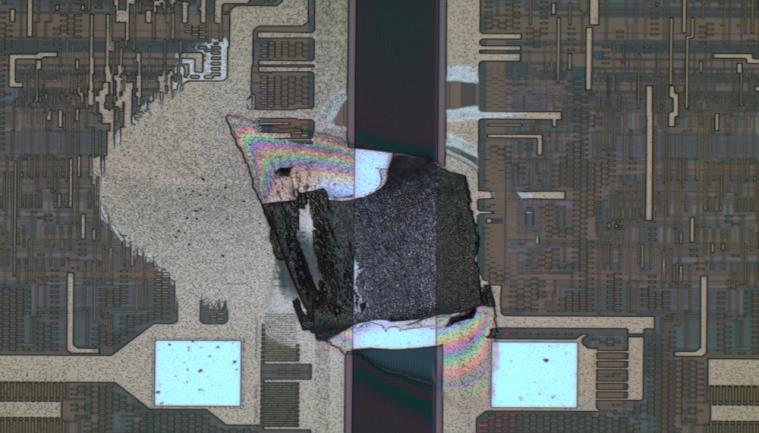BLOCK ETCH: (92, 1, 547, 411)
